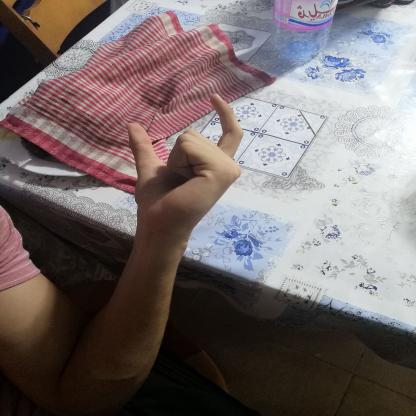NOON: (110, 82, 258, 237)
